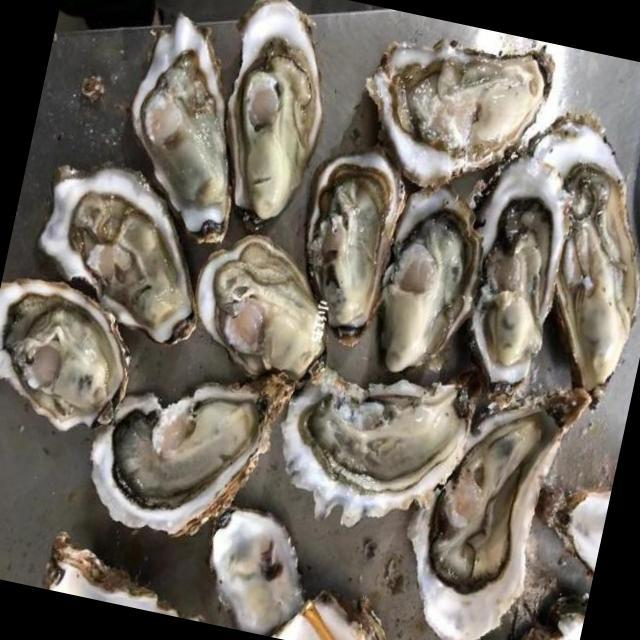Oyster-Open: (384, 358, 596, 640), (478, 101, 640, 418), (74, 341, 298, 556), (263, 346, 482, 552), (349, 7, 566, 214), (21, 151, 227, 355), (102, 2, 271, 250), (441, 146, 585, 401), (200, 0, 349, 237), (278, 136, 416, 354), (179, 218, 350, 393), (365, 174, 498, 384), (0, 267, 145, 445), (190, 500, 323, 640)
